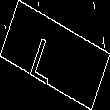L_NE: (37, 26, 73, 84)
